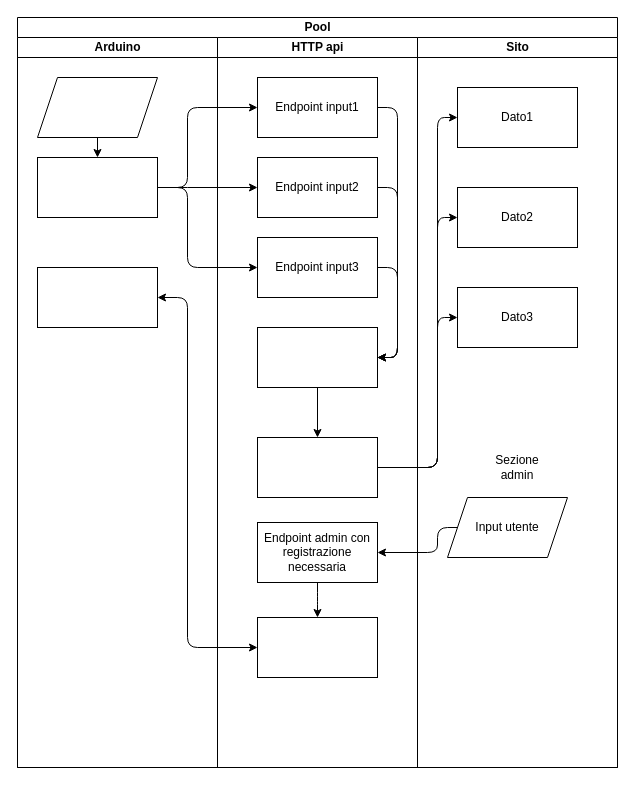
This 635x785 diagram has some shape labels left out. Each missing label, with the centre of its shape:
"Elaborazione" belongs at (317,357).
"Endpoint pubblici" belongs at (317,467).
"Prima elaborazione e invio" belongs at (97,187).
"Raccolta dati" belongs at (97,107).
"Socket server" belongs at (317,647).
"Socket-client" belongs at (97,297).
